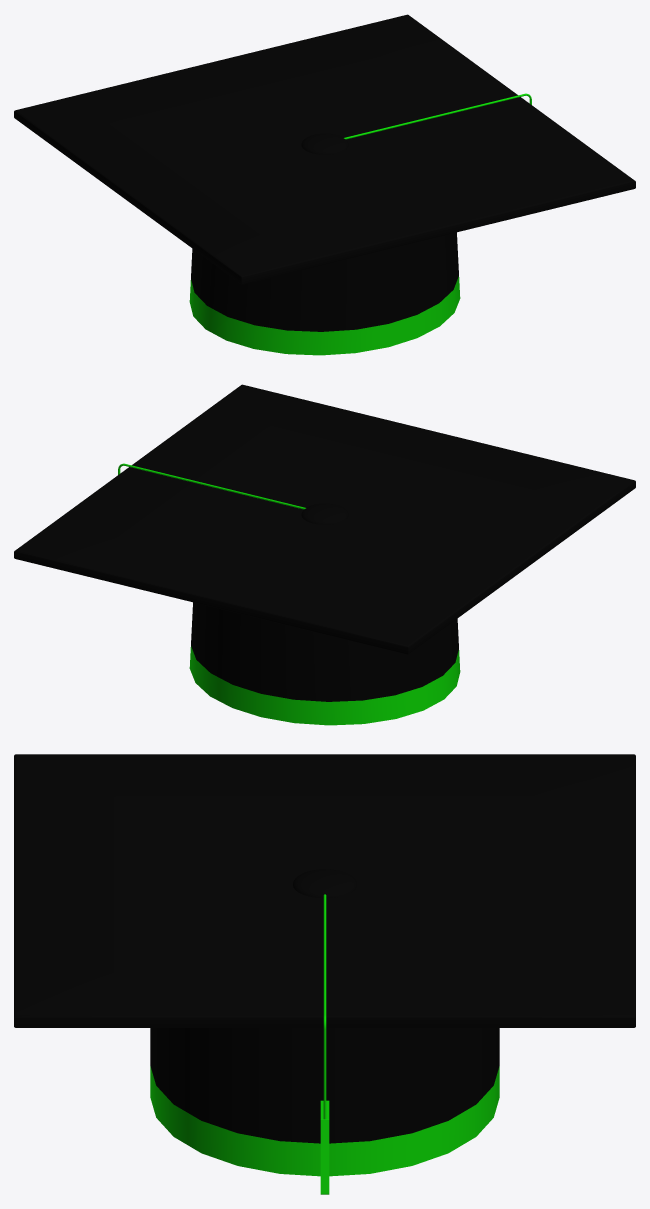
File: chapeu de formatura.fbx
3 renders of one model, top to bottom at view 1: azimuth 30°, elevation 25°; view 2: azimuth 150°, elevation 25°; view 3: azimuth 270°, elevation 25°, orthographic. The views are drawn at different scales.
Visible parts, largest first — view 1: Cubo, Esfera UV, Cubo.001; view 2: Cubo, Esfera UV, Cubo.001; view 3: Cubo, Esfera UV, Curve, Cubo.001.
Boxes of the visible parts, <box> form: Cubo: <box>14,14,635,355</box>; Esfera UV: <box>301,133,348,154</box>; Cubo.001: <box>344,93,531,139</box>; Cubo: <box>14,384,635,725</box>; Esfera UV: <box>301,503,348,524</box>; Cubo.001: <box>118,463,305,509</box>; Cubo: <box>14,754,635,1176</box>; Esfera UV: <box>293,869,356,898</box>; Curve: <box>320,1100,329,1194</box>; Cubo.001: <box>323,894,326,1119</box>.
Size of the model in its own units: 93.75 by 33.69 by 86.15.
